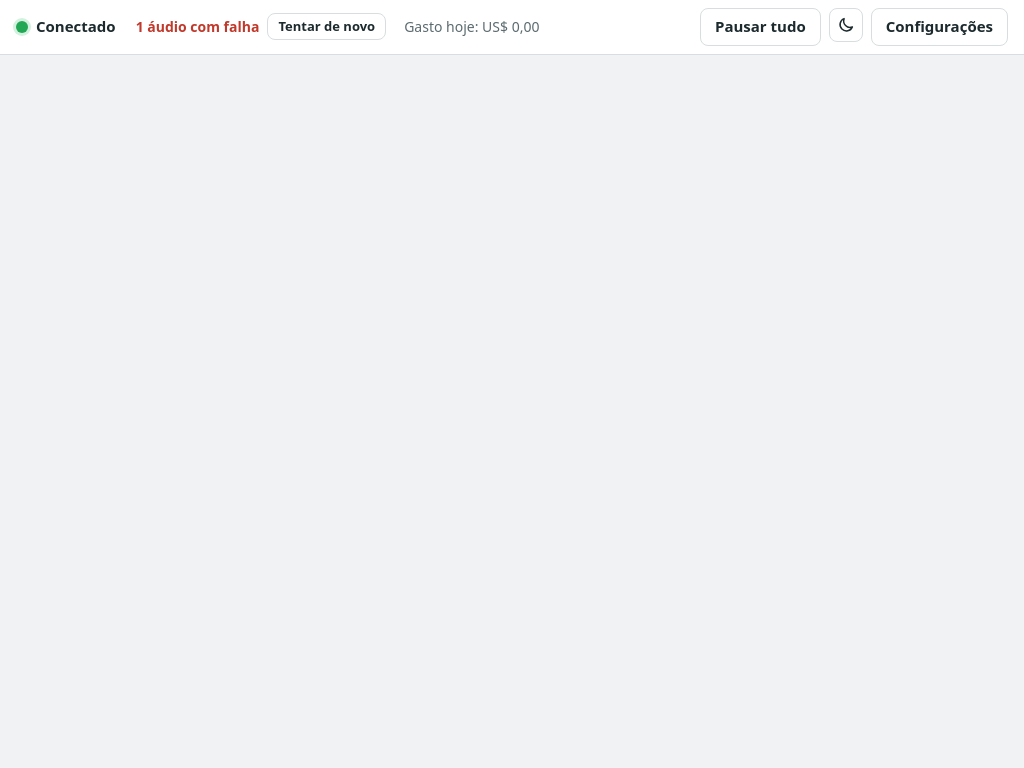
Test: tema: interface › barra de cima: botão sol/lua com nome acessível; clicar troca e salva
The image size is (1024, 768).
Click the button named "Usar o tema escuro". click: (846, 25)
box: x1=829 y1=8 x2=863 y2=42
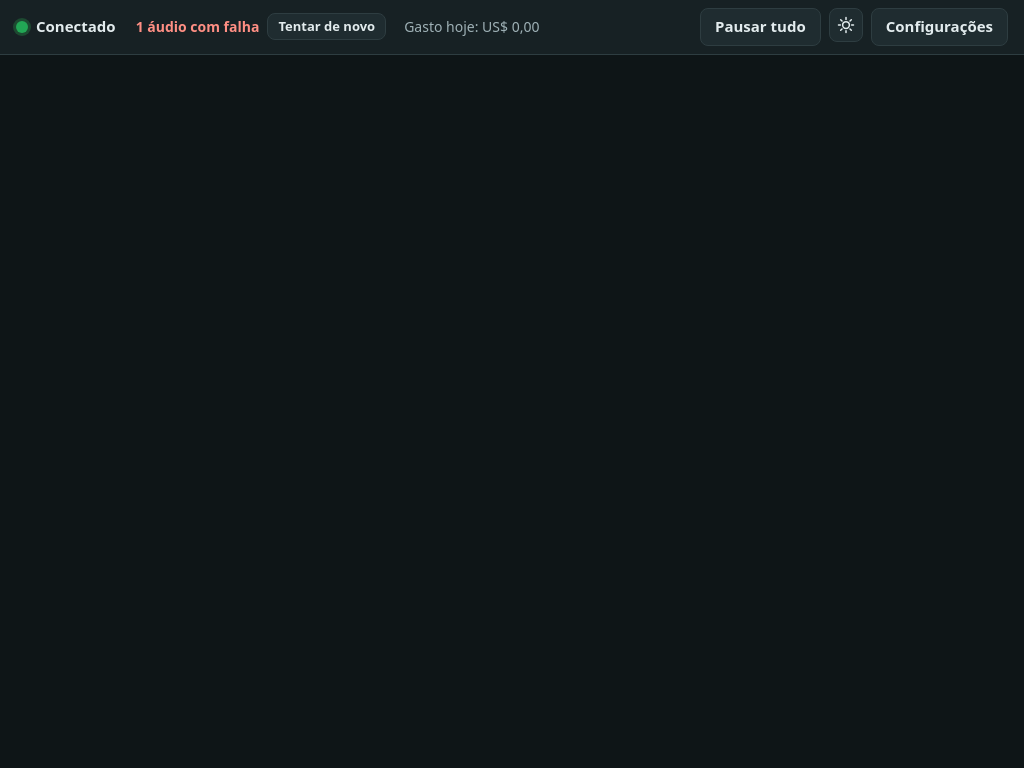
Now the button named "Usar o tema claro" is shown, box x1=829 y1=8 x2=863 y2=42
